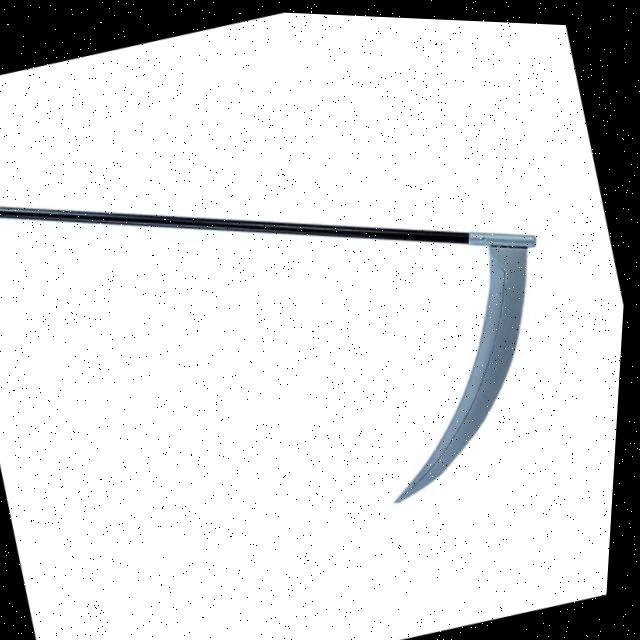sickle: (0, 1, 621, 611)
